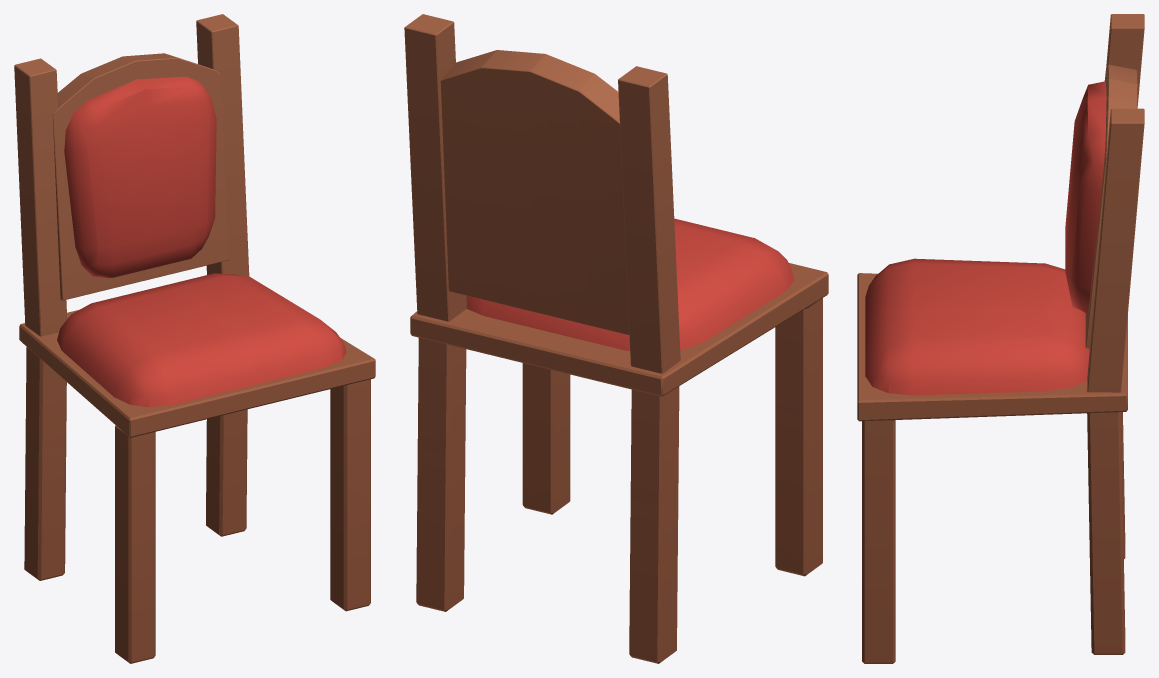
File: FancyChairRed.glb
3 renders of one model, left to right at view 1: azimuth 30°, elevation 25°; view 2: azimuth 150°, elevation 25°; view 3: azimuth 270°, elevation 25°, orthographic. The views are drawn at different scales.
Visible parts, largest first — view 1: FancyChairRed; view 2: FancyChairRed; view 3: FancyChairRed.
Boxes of the visible parts, <box> form: FancyChairRed: <box>14,14,375,663</box>; FancyChairRed: <box>404,14,828,663</box>; FancyChairRed: <box>857,14,1144,663</box>.
Bounding box in the file's own units: 0.45 × 0.8706 × 0.4247.
Materials: 1 (1 with a texture image).
